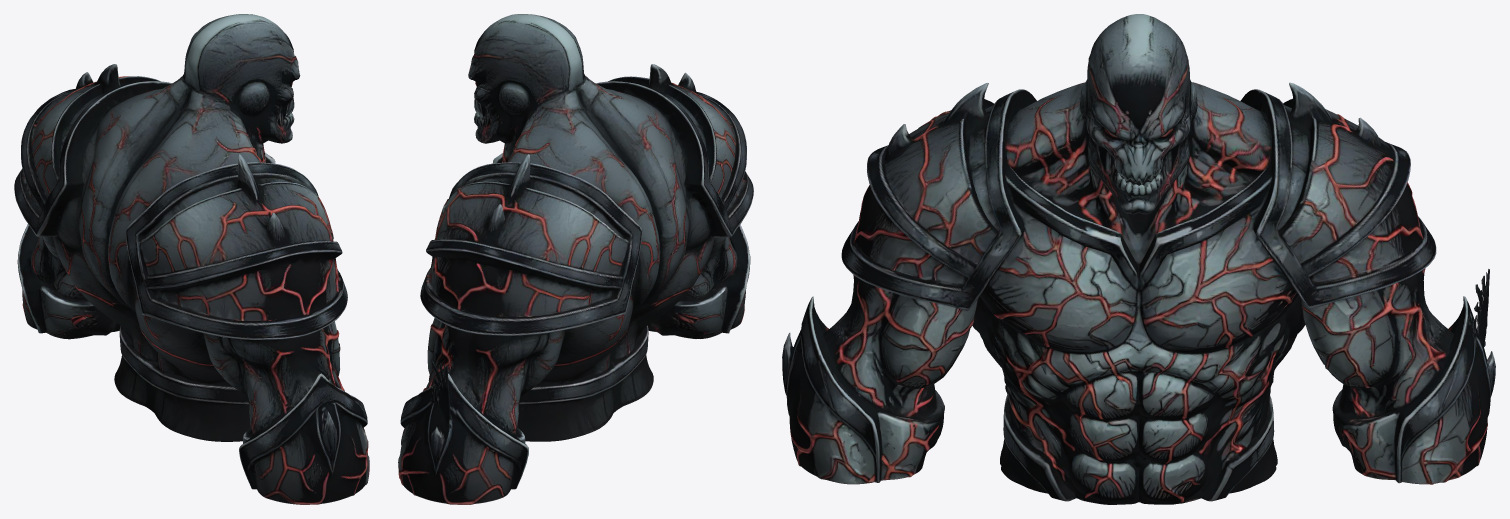
Rendered from deathstorm3d.glb.
3 views of the same model, side by side, from view 1: azimuth 30°, elevation 25°; view 2: azimuth 150°, elevation 25°; view 3: azimuth 270°, elevation 25° (orthographic). The views are drawn at different scales.
Parts seen in each view (by area): view 1: tripo_node_b99948e5-8365-453c-bdd7-a6ae2d6db607; view 2: tripo_node_b99948e5-8365-453c-bdd7-a6ae2d6db607; view 3: tripo_node_b99948e5-8365-453c-bdd7-a6ae2d6db607.
Boxes of the visible parts, x1,y1,x2,y2 form: tripo_node_b99948e5-8365-453c-bdd7-a6ae2d6db607: (14, 14, 369, 504); tripo_node_b99948e5-8365-453c-bdd7-a6ae2d6db607: (398, 14, 753, 504); tripo_node_b99948e5-8365-453c-bdd7-a6ae2d6db607: (782, 14, 1495, 504).
Size of the model in its own units: 0.4142 by 0.7049 by 1.
1 material, 1 textured.
